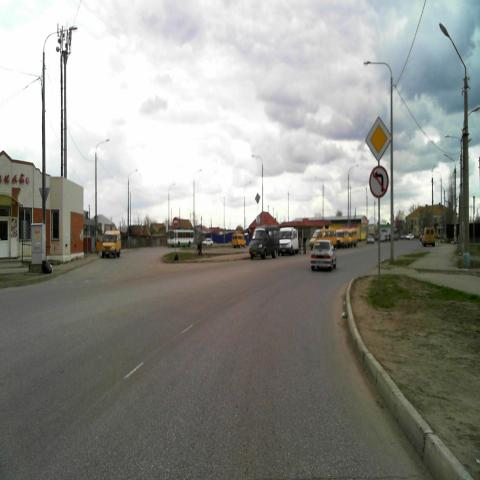3_18_2: (370, 165, 388, 199)
